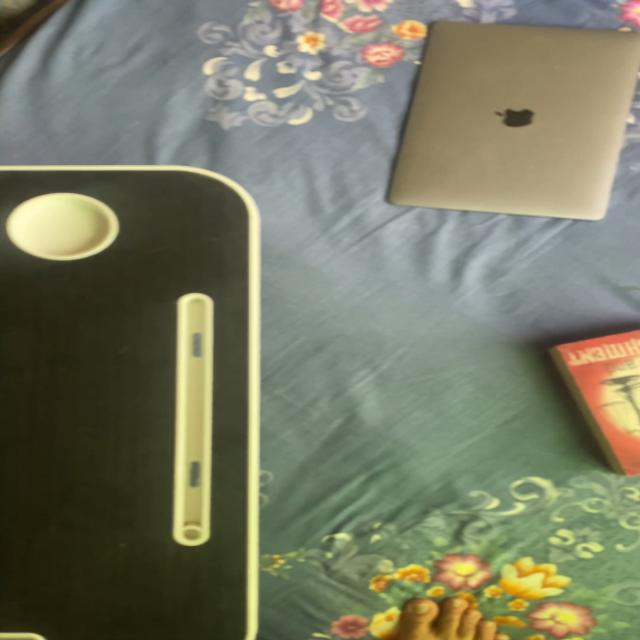book: (538, 324, 640, 486)
laptop: (399, 10, 640, 232)
table: (2, 147, 310, 640)
